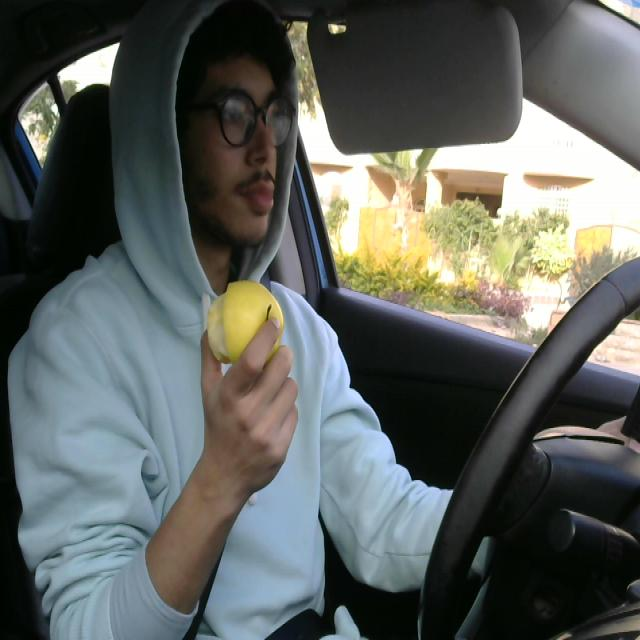eating: (203, 271, 288, 372)
